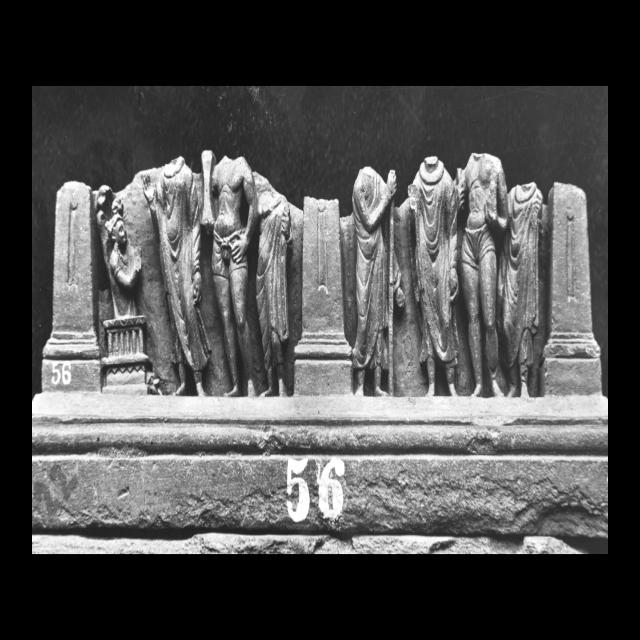buddha-standing: (142, 156, 210, 396), (409, 156, 459, 396)
